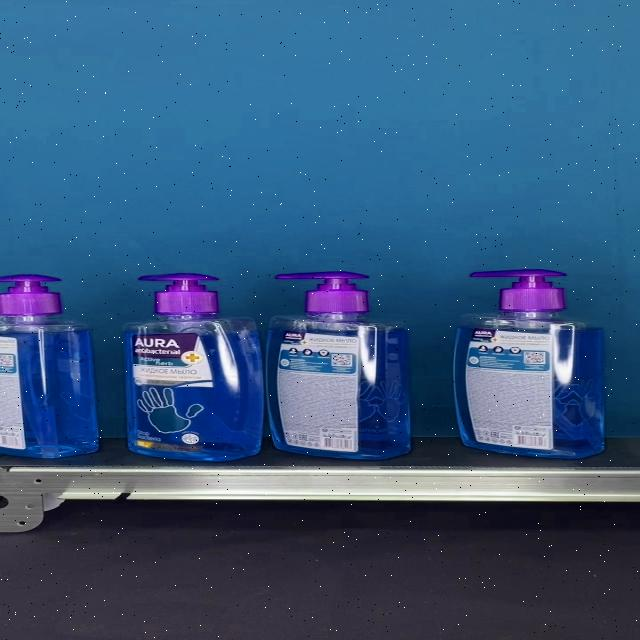Bottle: (450, 270, 604, 458), (265, 273, 411, 459), (122, 274, 262, 462)
Cap: (468, 270, 568, 313), (274, 273, 369, 315), (136, 274, 218, 315)
